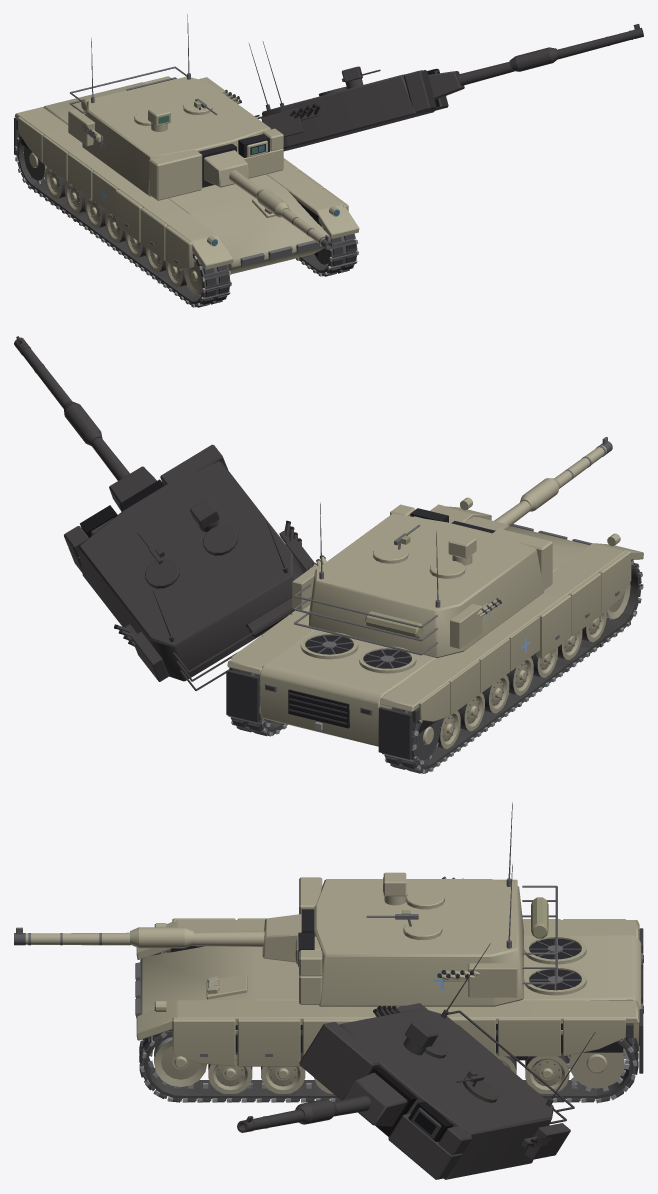
Rendered from tank__leopard_2a4.glb.
3 renders of one model, top to bottom at view 1: azimuth 30°, elevation 25°; view 2: azimuth 150°, elevation 25°; view 3: azimuth 270°, elevation 25°, orthographic. The views are drawn at different scales.
Visible parts, largest first — view 1: Hull_Mesh, Turret_Mesh, Wreck, Track_L_Mesh, Gun_Mesh, Track_R_Mesh, Sprocket_L_Mesh, Wheel_L2_Mesh, CITV_Mesh, Wheel_L1_Mesh, Wheel_L0_Mesh, Idler_L_Mesh; view 2: Wreck, Hull_Mesh, Turret_Mesh, Track_L_Mesh, Gun_Mesh, Hatch_Loader_Mesh, Track_R_Mesh, Sprocket_L_Mesh, Wheel_L3_Mesh, Wheel_L1_Mesh, Wheel_L2_Mesh, CITV_Mesh (+1 smaller); view 3: Hull_Mesh, Wreck, Turret_Mesh, Track_R_Mesh, Gun_Mesh, Sprocket_R_Mesh, Idler_R_Mesh, Wheel_R0_Mesh, Wheel_R6_Mesh, Wheel_R5_Mesh, Hatch_Loader_Mesh, CITV_Mesh (+1 smaller).
Part boxes in pixels (x1,y1,x2,y2): Hull_Mesh: [14, 76, 359, 274]; Turret_Mesh: [68, 66, 283, 200]; Wreck: [15, 24, 643, 307]; Track_L_Mesh: [14, 135, 231, 307]; Gun_Mesh: [204, 150, 333, 249]; Track_R_Mesh: [296, 225, 358, 276]; Sprocket_L_Mesh: [23, 146, 46, 184]; Wheel_L2_Mesh: [85, 196, 107, 228]; CITV_Mesh: [148, 106, 170, 131]; Wheel_L1_Mesh: [65, 182, 87, 213]; Wheel_L0_Mesh: [45, 167, 67, 198]; Idler_L_Mesh: [183, 260, 202, 295]; Wreck: [14, 336, 643, 773]; Hull_Mesh: [226, 497, 643, 759]; Turret_Mesh: [292, 504, 552, 657]; Track_L_Mesh: [382, 560, 643, 773]; Gun_Mesh: [462, 437, 612, 530]; Hatch_Loader_Mesh: [373, 524, 420, 563]; Track_R_Mesh: [228, 670, 287, 736]; Sprocket_L_Mesh: [416, 719, 440, 764]; Wheel_L3_Mesh: [506, 657, 533, 695]; Wheel_L1_Mesh: [458, 693, 484, 731]; Wheel_L2_Mesh: [482, 675, 509, 713]; CITV_Mesh: [448, 534, 476, 565]; Hull_Mesh: [135, 918, 643, 1073]; Wreck: [139, 943, 638, 1179]; Turret_Mesh: [298, 877, 557, 1006]; Track_R_Mesh: [139, 1029, 638, 1103]; Gun_Mesh: [14, 914, 301, 962]; Sprocket_R_Mesh: [567, 1048, 629, 1091]; Idler_R_Mesh: [154, 1037, 207, 1087]; Wheel_R0_Mesh: [525, 1052, 569, 1093]; Wheel_R6_Mesh: [208, 1052, 252, 1093]; Wheel_R5_Mesh: [261, 1052, 305, 1093]; Hatch_Loader_Mesh: [366, 910, 442, 939]; CITV_Mesh: [383, 872, 406, 905].
Size of what is drawn, in the model's own units: 11.25 by 3.76 by 9.68.
